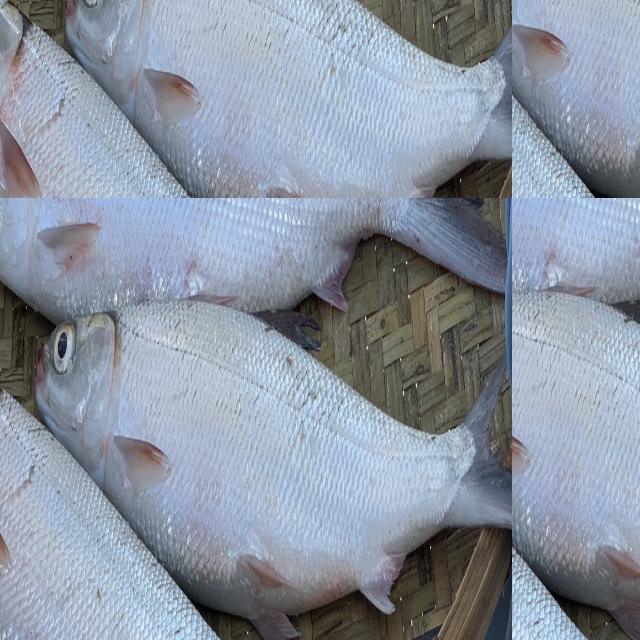fish: (9, 198, 169, 424), (512, 107, 640, 198)
